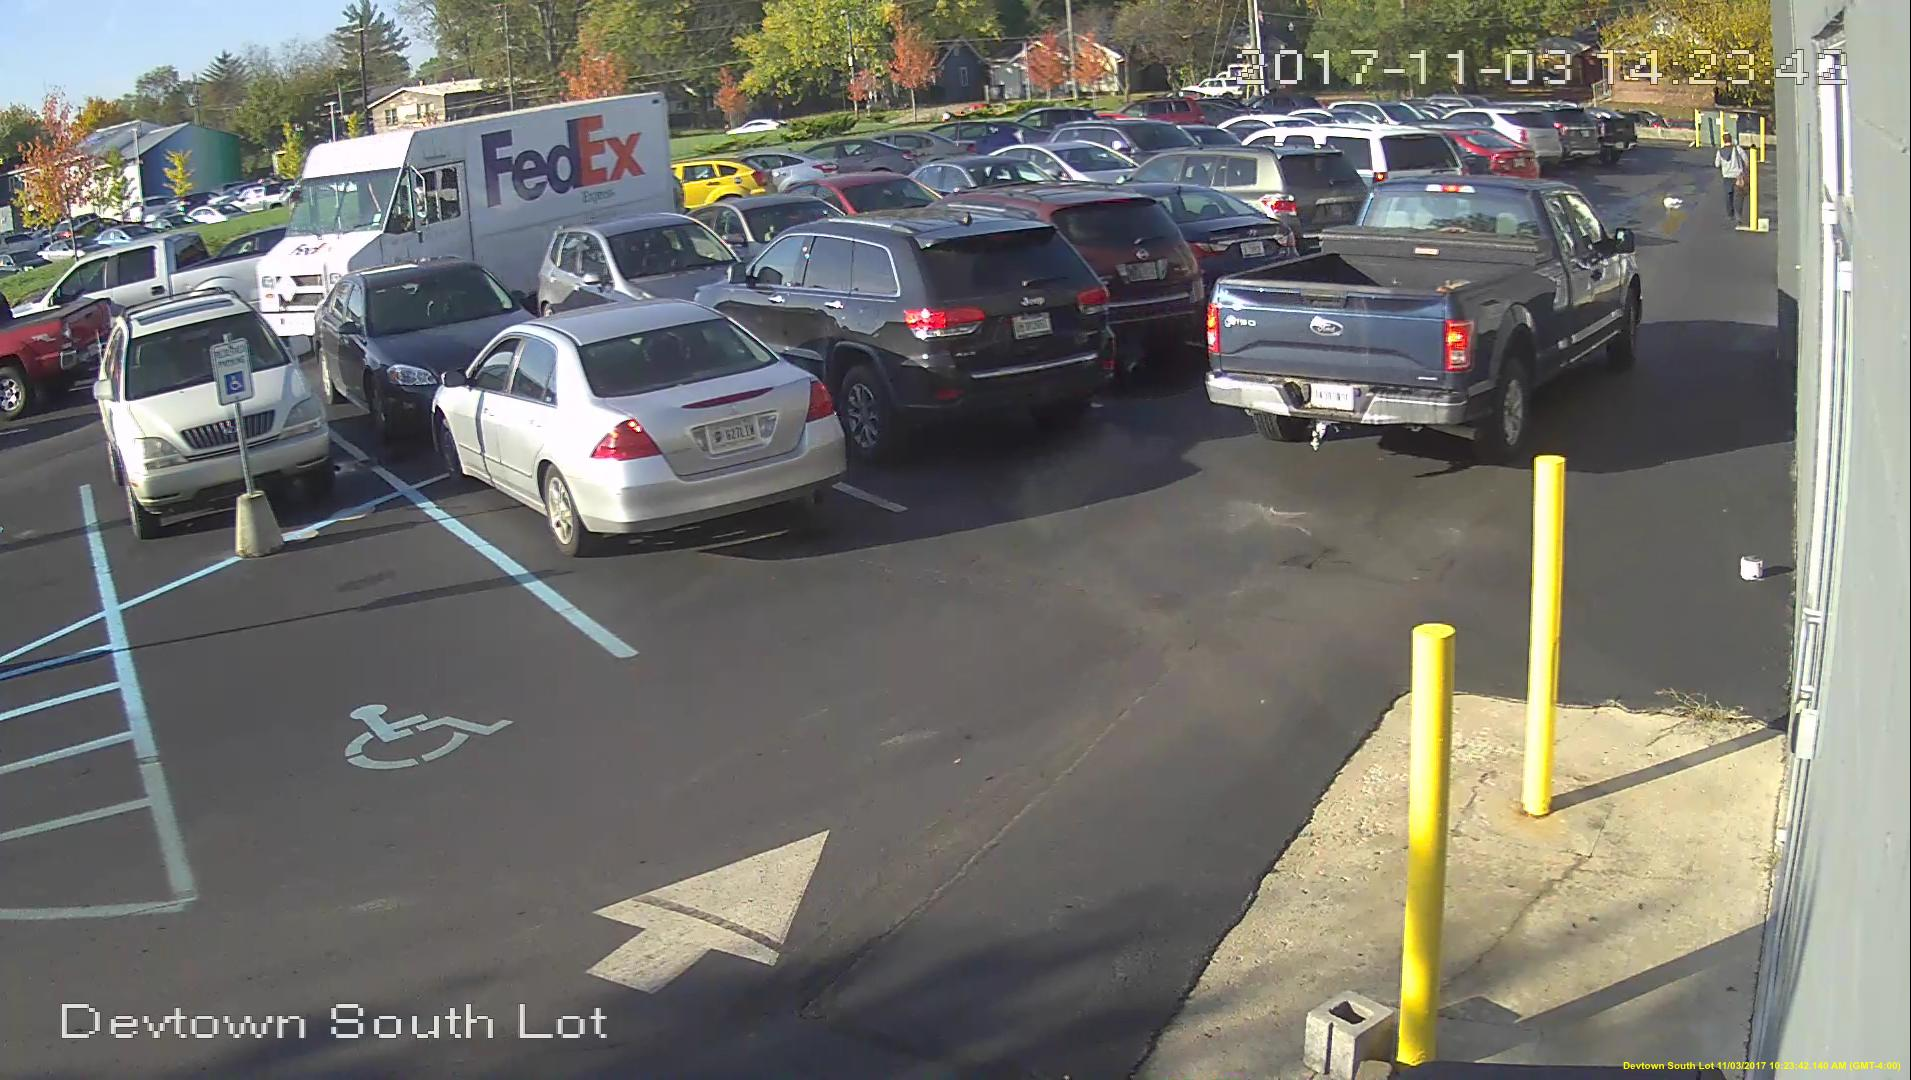fedex_truck: (256, 92, 679, 345)
